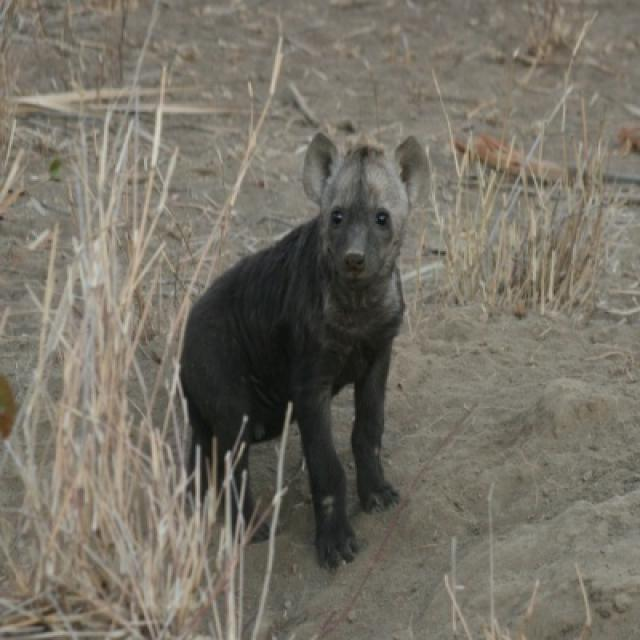hyena: (178, 136, 430, 570)
